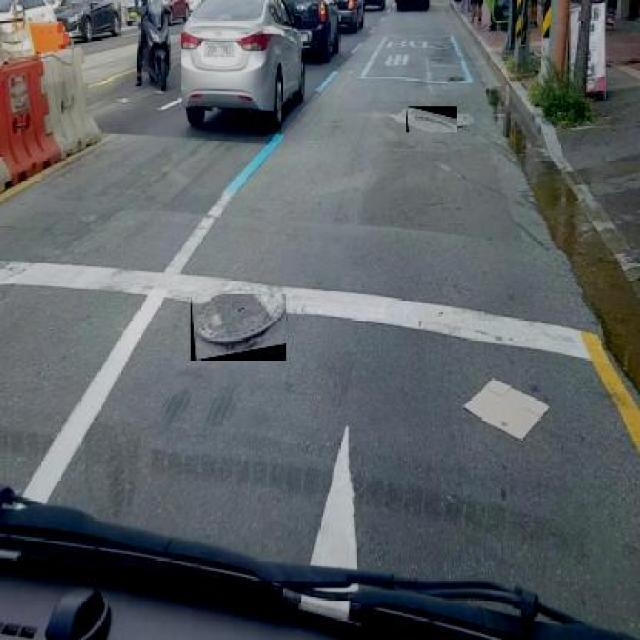Manhole: (191, 294, 286, 360), (406, 106, 457, 132)
Pothole: (446, 70, 471, 86)
